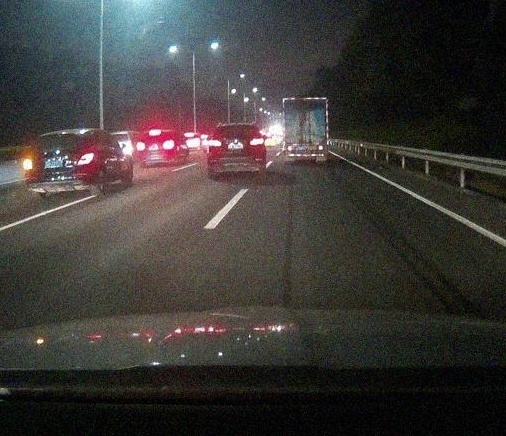L_light: (23, 158, 37, 170), (208, 138, 223, 147), (137, 142, 145, 150), (287, 146, 295, 151)
R_light: (76, 152, 96, 166), (249, 137, 264, 146), (163, 140, 174, 149), (317, 145, 325, 151)
T_light: (149, 130, 161, 136), (53, 134, 68, 138), (300, 99, 309, 103), (230, 125, 241, 128)
night-brake: (137, 129, 177, 166)
night-left: (23, 130, 99, 200)
night-no: (282, 97, 329, 165), (207, 123, 265, 178)
